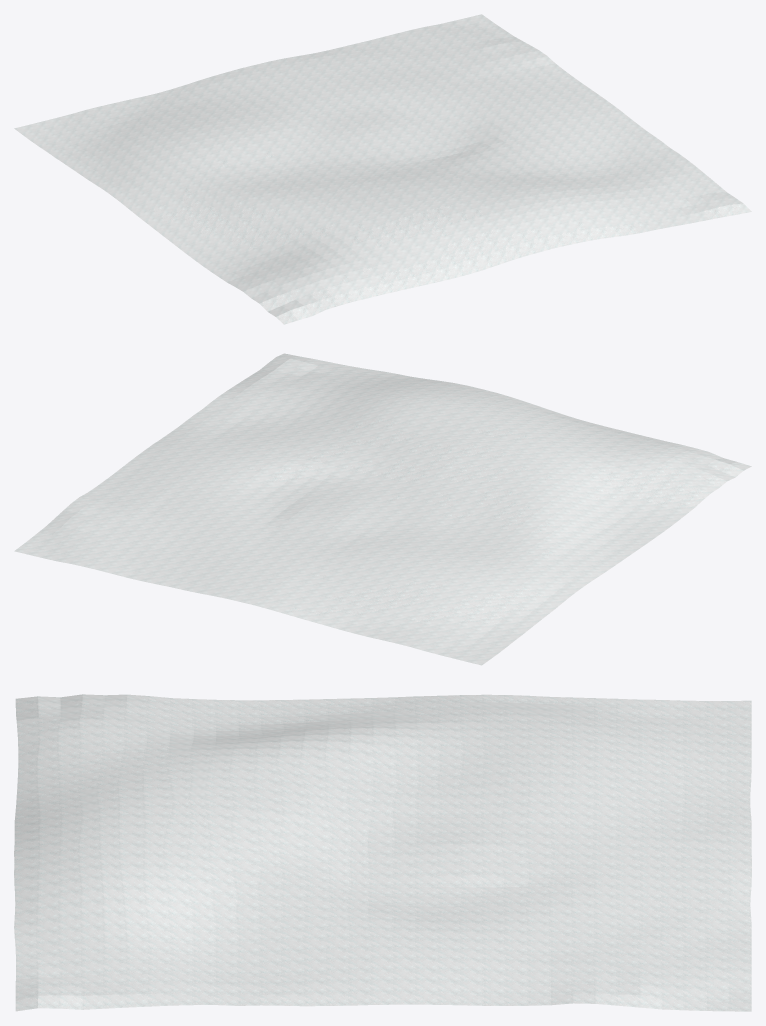
The model's file is Terrain.glb.
3 renders of one model, top to bottom at view 1: azimuth 30°, elevation 25°; view 2: azimuth 150°, elevation 25°; view 3: azimuth 270°, elevation 25°, orthographic. The views are drawn at different scales.
Visible parts, largest first — view 1: Terrain; view 2: Terrain; view 3: Terrain.
Part boxes in pixels (bbox=[...]): Terrain: bbox=[14, 14, 751, 324]; Terrain: bbox=[14, 353, 751, 665]; Terrain: bbox=[14, 694, 751, 1011].
Bounding box in the file's own units: 150 × 7.69 × 150.
Materials: 1 (1 with a texture image).
